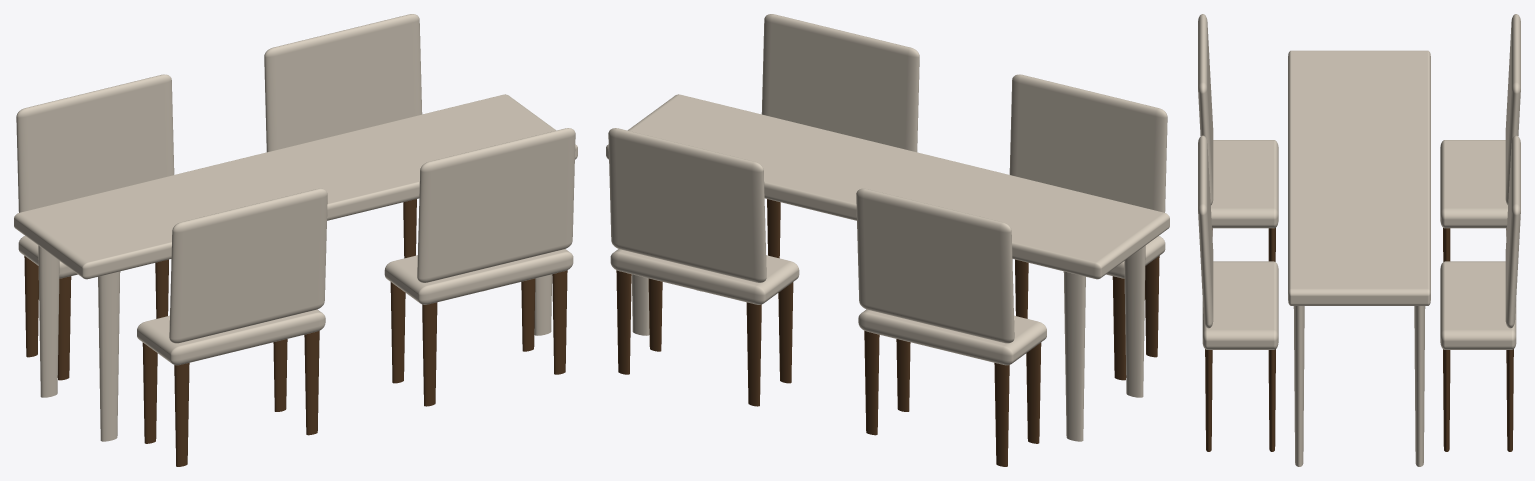
File: dset.glb
The picture shows the model from 3 angles, left to right: view 1: azimuth 30°, elevation 25°; view 2: azimuth 150°, elevation 25°; view 3: azimuth 270°, elevation 25°; orthographic projection.
Size of the model in its own units: 1.6 by 0.7583 by 0.8979.
